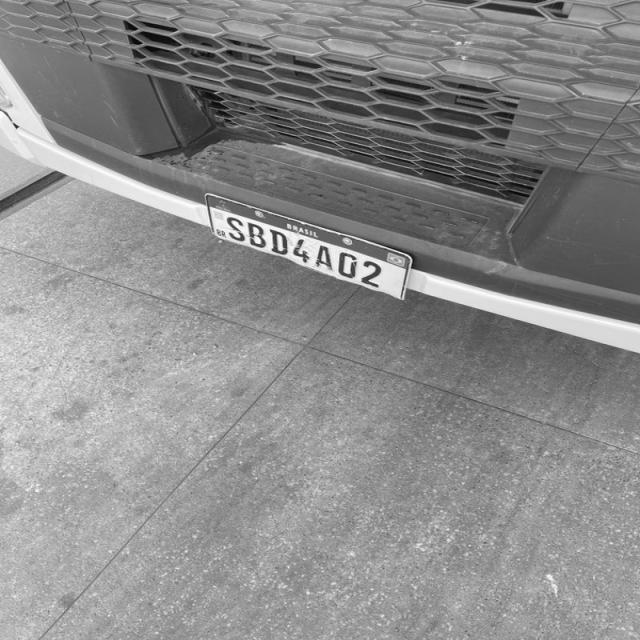placa_mercosul: (205, 194, 412, 298)
